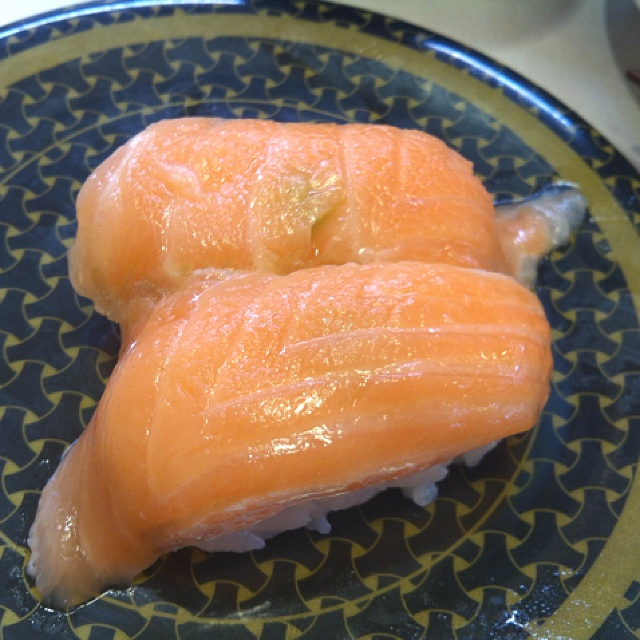salmon: (69, 269, 550, 552), (77, 114, 581, 315)
